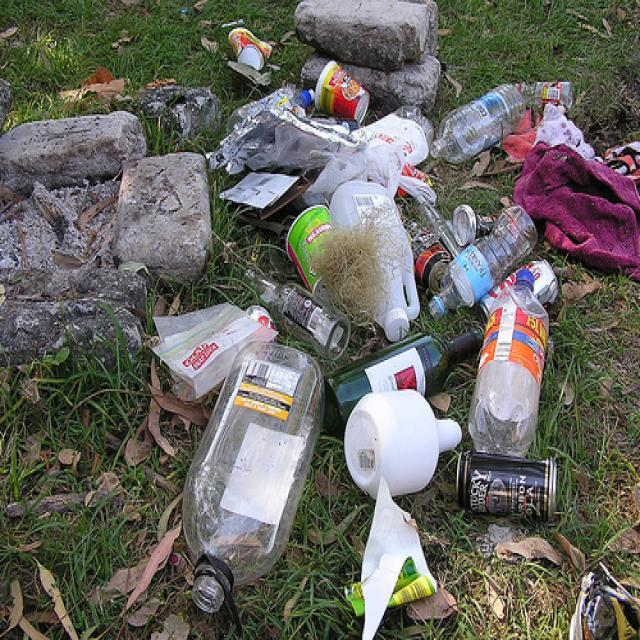trash: (157, 332, 332, 624), (406, 189, 568, 309), (429, 67, 603, 175), (273, 175, 393, 318), (439, 427, 580, 538), (341, 374, 434, 512), (292, 45, 381, 131), (203, 14, 279, 85)
